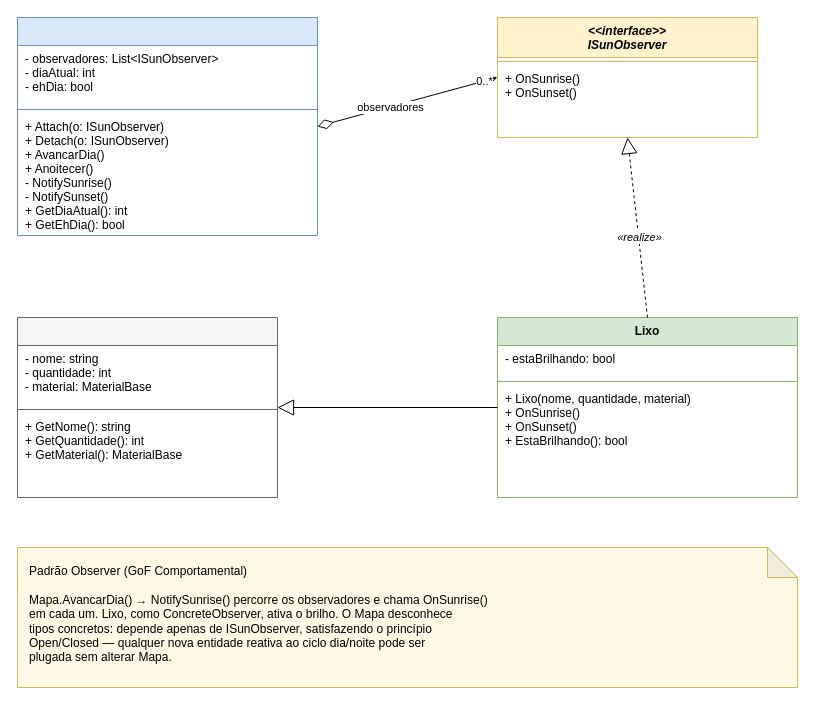
The diagram is 815 pixels wide and 705 high, and some of its shapes have lost their labels. The shapes that lost their labels are listed below. From the top down, each one's box as (x1, y1, x2, y2) in pixels, then its label:
(16, 16, 318, 236): Mapa
(16, 316, 278, 498): Item
